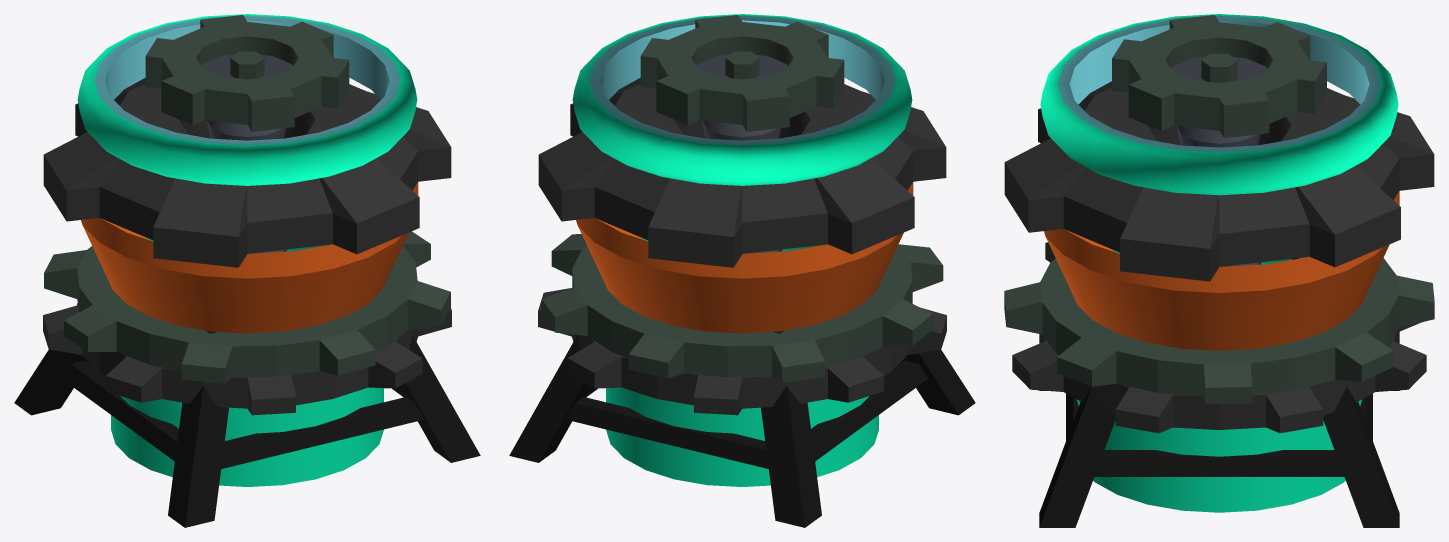
Rendered from Pico_RepairStation.glb.
3 renders of one model, left to right at view 1: azimuth 30°, elevation 25°; view 2: azimuth 150°, elevation 25°; view 3: azimuth 270°, elevation 25°, orthographic. The views are drawn at different scales.
Visible parts, largest first — view 1: ring_bevelEdges, pipe_largeExhaust, Torus03, ring_innerOuter, gear_slantEnforced, cog_smallBasicClosed, ring_outer, tube_rubber; view 2: ring_bevelEdges, pipe_largeExhaust, Torus03, ring_innerOuter, gear_slantEnforced, cog_smallBasicClosed, ring_outer, tube_rubber; view 3: ring_bevelEdges, pipe_largeExhaust, Torus03, ring_innerOuter, cog_smallBasicClosed, gear_slantEnforced, ring_outer, tube_rubber.
Part boxes in pixels (x1=…): ring_bevelEdges: x1=43, y1=78, x2=451, y2=267; pipe_largeExhaust: x1=81, y1=182, x2=418, y2=486; Torus03: x1=77, y1=14, x2=417, y2=185; ring_innerOuter: x1=44, y1=231, x2=450, y2=383; gear_slantEnforced: x1=14, y1=330, x2=480, y2=527; cog_smallBasicClosed: x1=145, y1=15, x2=349, y2=131; ring_outer: x1=43, y1=303, x2=451, y2=415; tube_rubber: x1=206, y1=120, x2=286, y2=253; ring_bevelEdges: x1=538, y1=78, x2=946, y2=267; pipe_largeExhaust: x1=576, y1=182, x2=913, y2=486; Torus03: x1=572, y1=14, x2=912, y2=185; ring_innerOuter: x1=541, y1=234, x2=943, y2=382; gear_slantEnforced: x1=509, y1=330, x2=975, y2=527; cog_smallBasicClosed: x1=640, y1=15, x2=844, y2=131; ring_outer: x1=538, y1=288, x2=946, y2=415; tube_rubber: x1=701, y1=120, x2=781, y2=253; ring_bevelEdges: x1=1004, y1=81, x2=1434, y2=281; pipe_largeExhaust: x1=1044, y1=191, x2=1399, y2=512; Torus03: x1=1040, y1=14, x2=1398, y2=195; ring_innerOuter: x1=1004, y1=242, x2=1434, y2=404; cog_smallBasicClosed: x1=1112, y1=15, x2=1326, y2=138; gear_slantEnforced: x1=1039, y1=258, x2=1399, y2=527; ring_outer: x1=1012, y1=322, x2=1426, y2=433; tube_rubber: x1=1176, y1=126, x2=1261, y2=266.
Bounding box in the file's own units: 1.2 × 1.2 × 1.2.
1 material, 1 textured.
